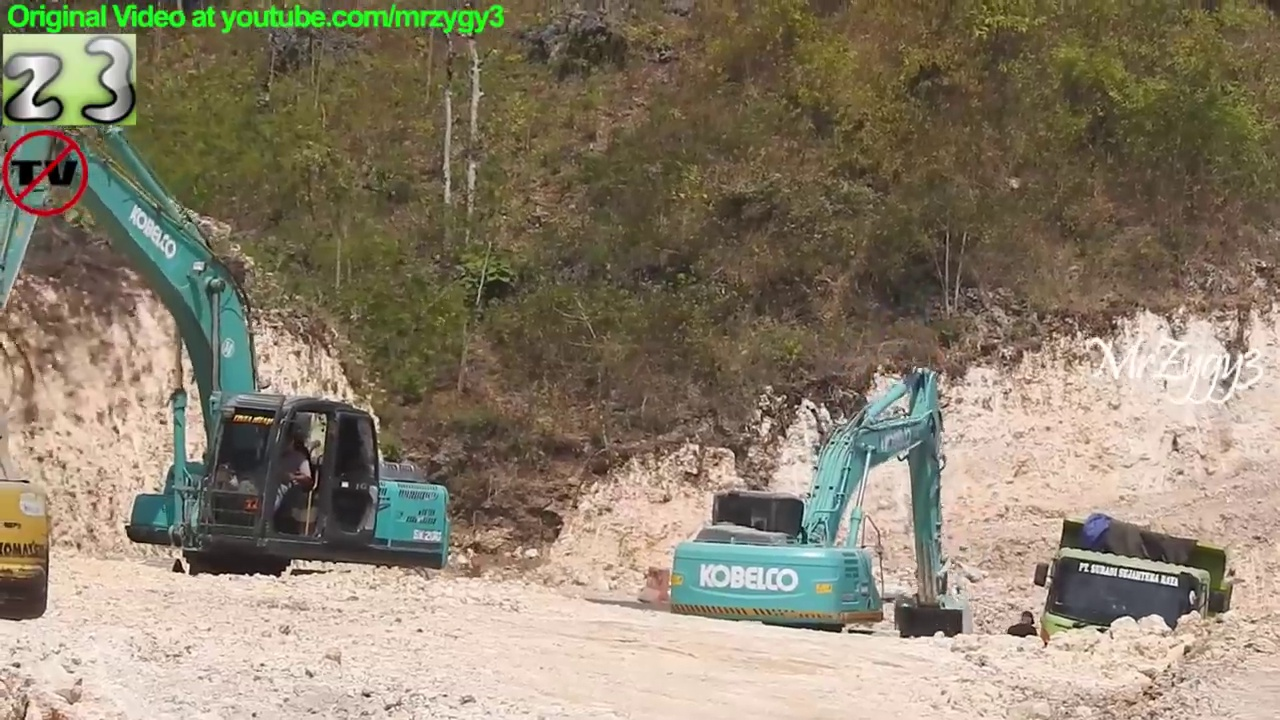excavator: (1, 54, 461, 627), (662, 357, 974, 689), (1, 475, 58, 628)
truck: (1030, 509, 1248, 695)
